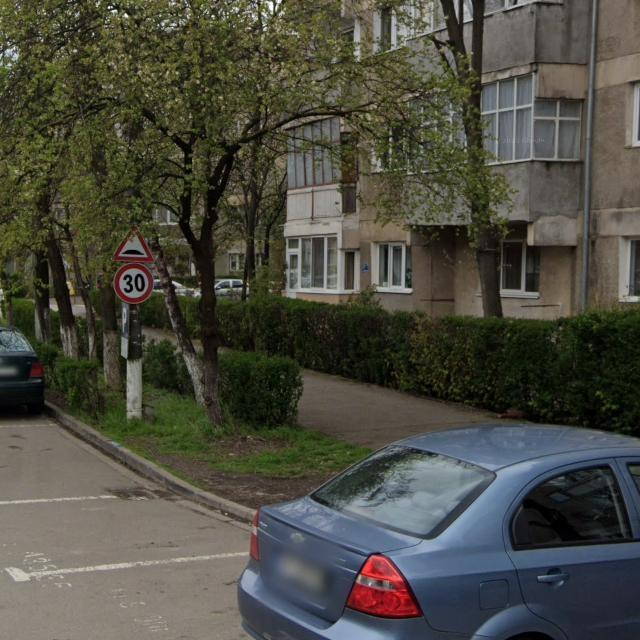forb_speed_over_30: (115, 263, 153, 302)
